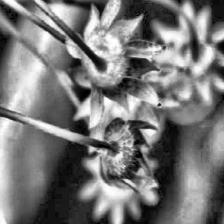Gray Mold: (80, 119, 160, 197)
